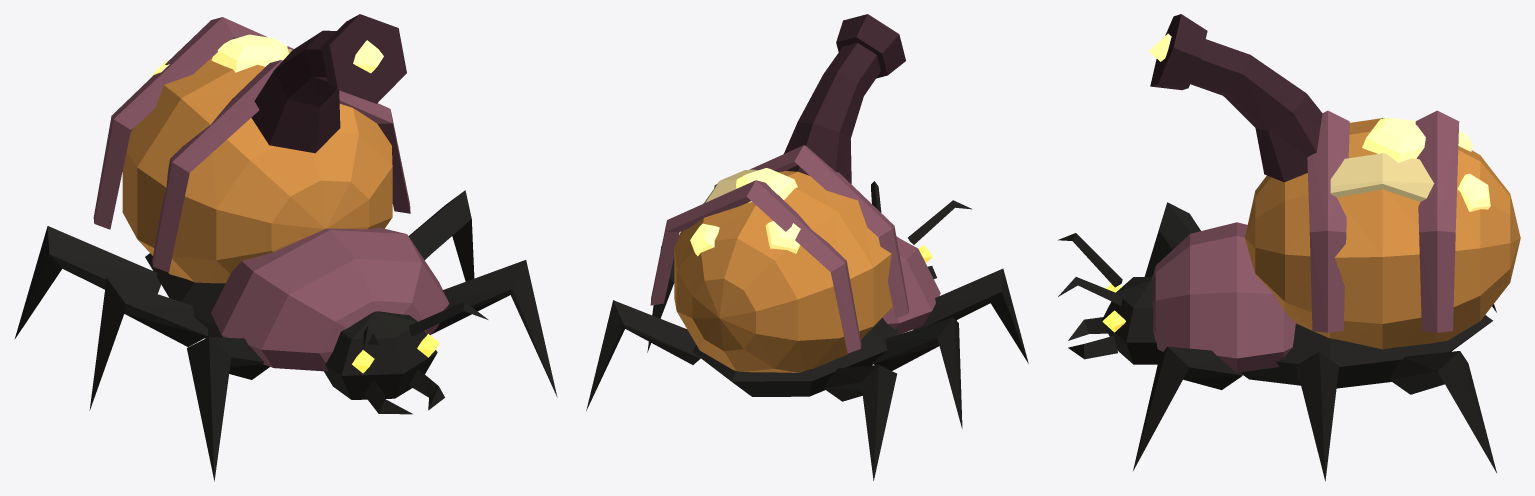
The model's file is Spitter.fbx.
3 views of the same model, side by side, from view 1: azimuth 30°, elevation 25°; view 2: azimuth 150°, elevation 25°; view 3: azimuth 270°, elevation 25° (orthographic). The views are drawn at different scales.
Visible parts, largest first — view 1: Shell, Sac, LegsR, Spout, Body, LegsL, Core, Antennae, SpoutGlow, Eyes; view 2: Sac, Shell, LegsR, Spout, Body, LegsL, Core, Antennae, SacShine; view 3: Shell, Sac, Spout, LegsL, Body, SacShine, Core, LegsR, Antennae.
Part boxes in pixels (x1=…): Shell: x1=93, y1=17, x2=449, y2=371; Sac: x1=122, y1=57, x2=392, y2=283; LegsR: x1=14, y1=226, x2=269, y2=481; Spout: x1=251, y1=14, x2=406, y2=153; Body: x1=145, y1=253, x2=444, y2=414; LegsL: x1=408, y1=190, x2=557, y2=397; Core: x1=152, y1=34, x2=288, y2=76; Antennae: x1=363, y1=301, x2=488, y2=350; SpoutGlow: x1=353, y1=40, x2=383, y2=73; Eyes: x1=352, y1=334, x2=439, y2=373; Sac: x1=674, y1=171, x2=892, y2=372; Shell: x1=650, y1=145, x2=940, y2=353; LegsR: x1=824, y1=268, x2=1028, y2=480; Spout: x1=784, y1=14, x2=905, y2=183; Body: x1=692, y1=236, x2=936, y2=396; LegsL: x1=586, y1=246, x2=700, y2=410; Core: x1=690, y1=168, x2=800, y2=256; Antennae: x1=871, y1=181, x2=972, y2=244; SacShine: x1=703, y1=169, x2=757, y2=203; Shell: x1=1152, y1=110, x2=1459, y2=372; Sac: x1=1245, y1=118, x2=1520, y2=349; Spout: x1=1150, y1=14, x2=1322, y2=182; LegsL: x1=1133, y1=346, x2=1496, y2=481; Body: x1=1068, y1=277, x2=1492, y2=388; SacShine: x1=1330, y1=153, x2=1434, y2=201; Core: x1=1362, y1=118, x2=1490, y2=211; LegsR: x1=1144, y1=202, x2=1496, y2=312; Antennae: x1=1058, y1=233, x2=1122, y2=305.
Size of the model in its own units: 3.2 by 3.22 by 3.56.
